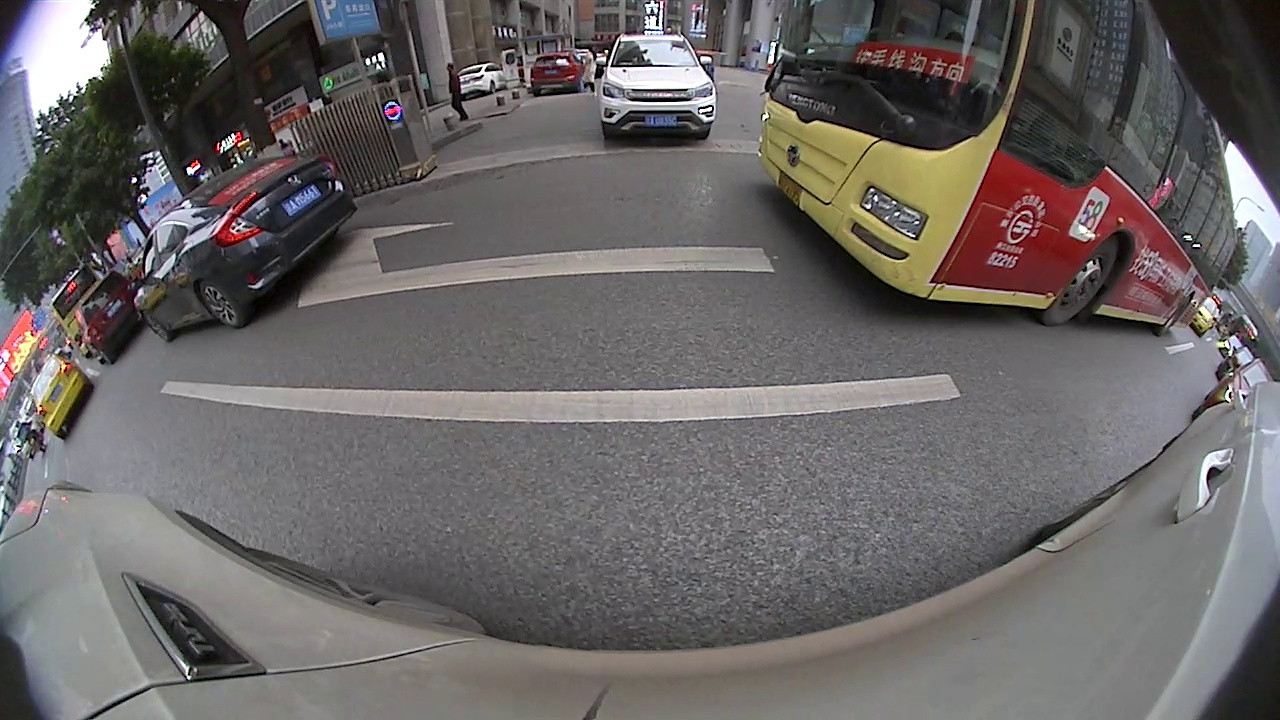bus: (756, 0, 1247, 342)
car: (131, 149, 362, 344), (595, 27, 722, 149), (68, 263, 152, 369), (23, 351, 97, 441), (527, 48, 586, 99), (451, 56, 510, 102)
front: (1036, 237, 1132, 327), (137, 316, 176, 343)
person: (442, 56, 471, 127)
rear: (187, 277, 261, 331), (1150, 292, 1193, 339), (487, 76, 500, 95)
